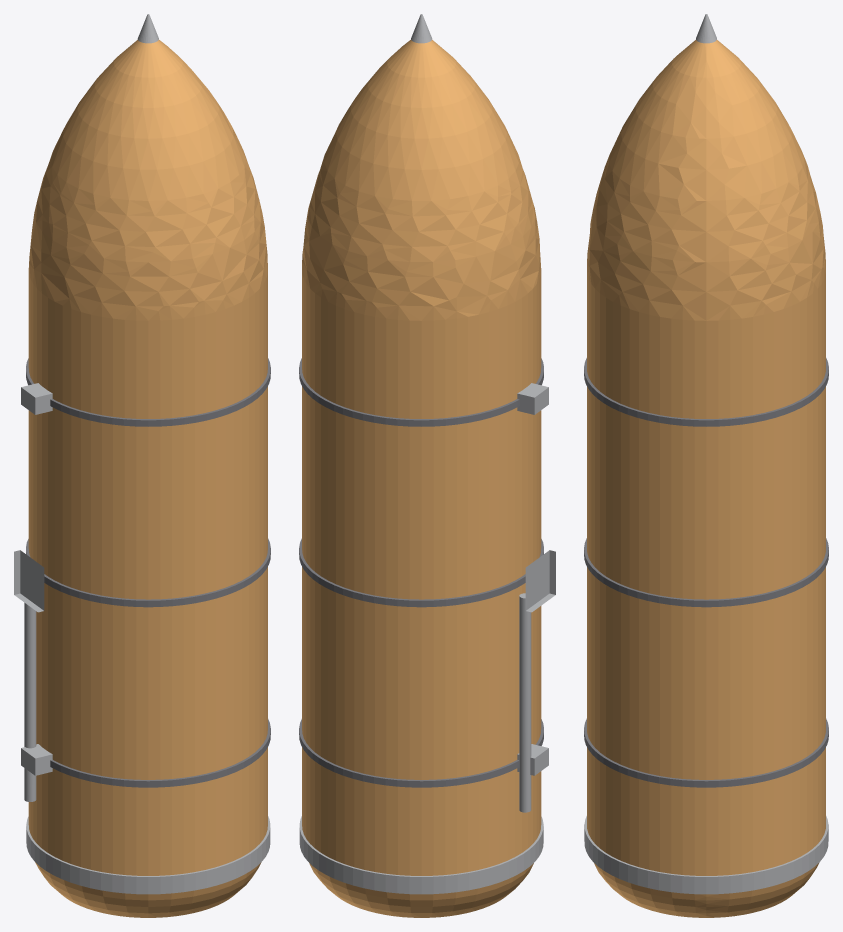
Rendered from tank07_drop_tank_s.glb.
The picture shows the model from 3 angles, left to right: view 1: azimuth 30°, elevation 25°; view 2: azimuth 150°, elevation 25°; view 3: azimuth 270°, elevation 25°; orthographic projection.
Visible parts, largest first — view 1: tank, straps, fittings, aft_ring; view 2: tank, straps, fittings, aft_ring; view 3: tank, straps, aft_ring.
Boxes of the visible parts, x1=… form: tank: x1=28, y1=40, x2=267, y2=917; straps: x1=26, y1=358, x2=270, y2=787; fittings: x1=14, y1=383, x2=52, y2=801; aft_ring: x1=26, y1=816, x2=270, y2=894; tank: x1=302, y1=40, x2=541, y2=917; straps: x1=299, y1=358, x2=543, y2=787; fittings: x1=517, y1=383, x2=555, y2=812; aft_ring: x1=299, y1=816, x2=543, y2=894; tank: x1=587, y1=40, x2=825, y2=917; straps: x1=584, y1=358, x2=828, y2=787; aft_ring: x1=584, y1=816, x2=828, y2=894.
Bounding box in the file's own units: 1.38 × 4.97 × 1.28.
